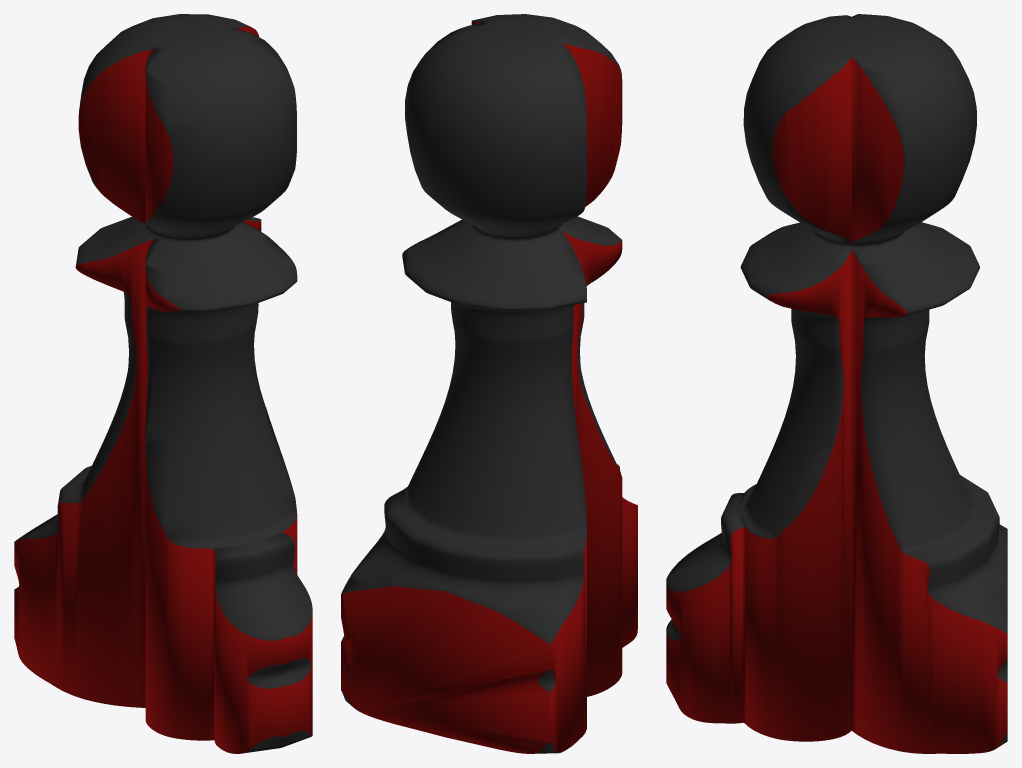
File: BlackPawn.fbx
3 views of the same model, side by side, from view 1: azimuth 30°, elevation 25°; view 2: azimuth 150°, elevation 25°; view 3: azimuth 270°, elevation 25° (orthographic). The views are drawn at different scales.
Visible parts, largest first — view 1: Pawn.001; view 2: Pawn.001; view 3: Pawn.001.
Part boxes in pixels (x1,y1,x2,y2): Pawn.001: (14,14,312,753); Pawn.001: (341,14,637,753); Pawn.001: (666,14,1007,753).
Bounding box in the file's own units: 37.71 × 113 × 51.68.
